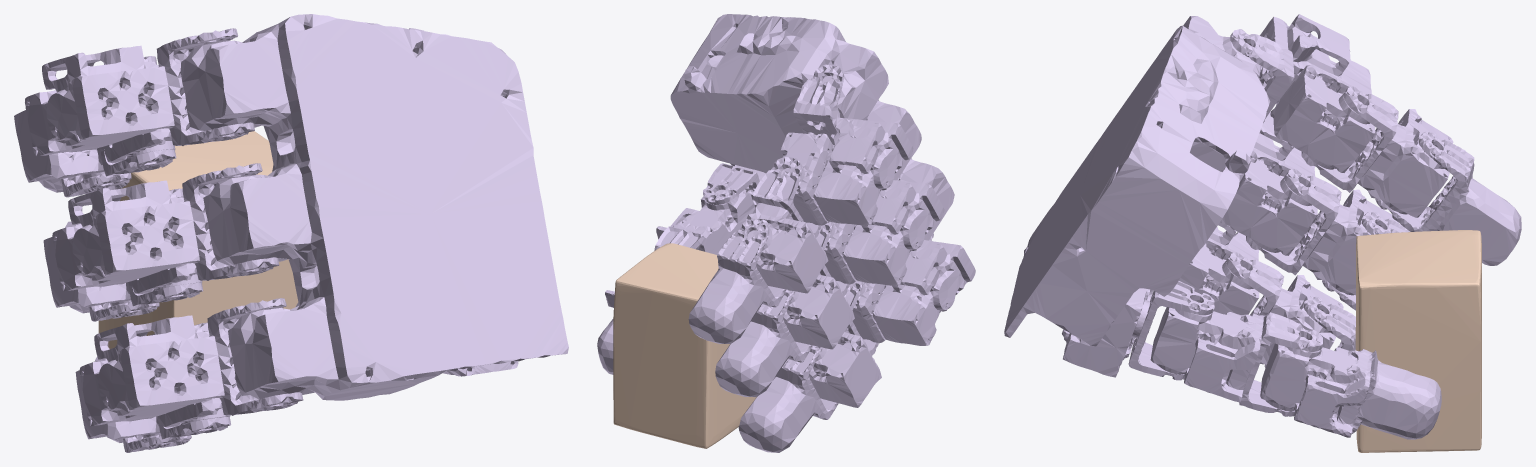
The model's file is 0f4388358b026e-closed.glb.
3 renders of one model, left to right at view 1: azimuth 30°, elevation 25°; view 2: azimuth 150°, elevation 25°; view 3: azimuth 270°, elevation 25°, orthographic. The views are drawn at different scales.
Parts seen in each view (by area): view 1: LEAP_hand, world; view 2: LEAP_hand, world; view 3: LEAP_hand, world.
Part boxes in pixels (box(x1,y1,x2,y2)): LEAP_hand: box(14, 14, 568, 452); world: box(98, 131, 298, 348); LEAP_hand: box(597, 14, 975, 452); world: box(613, 243, 756, 448); LEAP_hand: box(1004, 14, 1521, 439); world: box(1355, 230, 1481, 452).
Size of the model in its own units: 0.1456 by 0.1829 by 0.2093.
